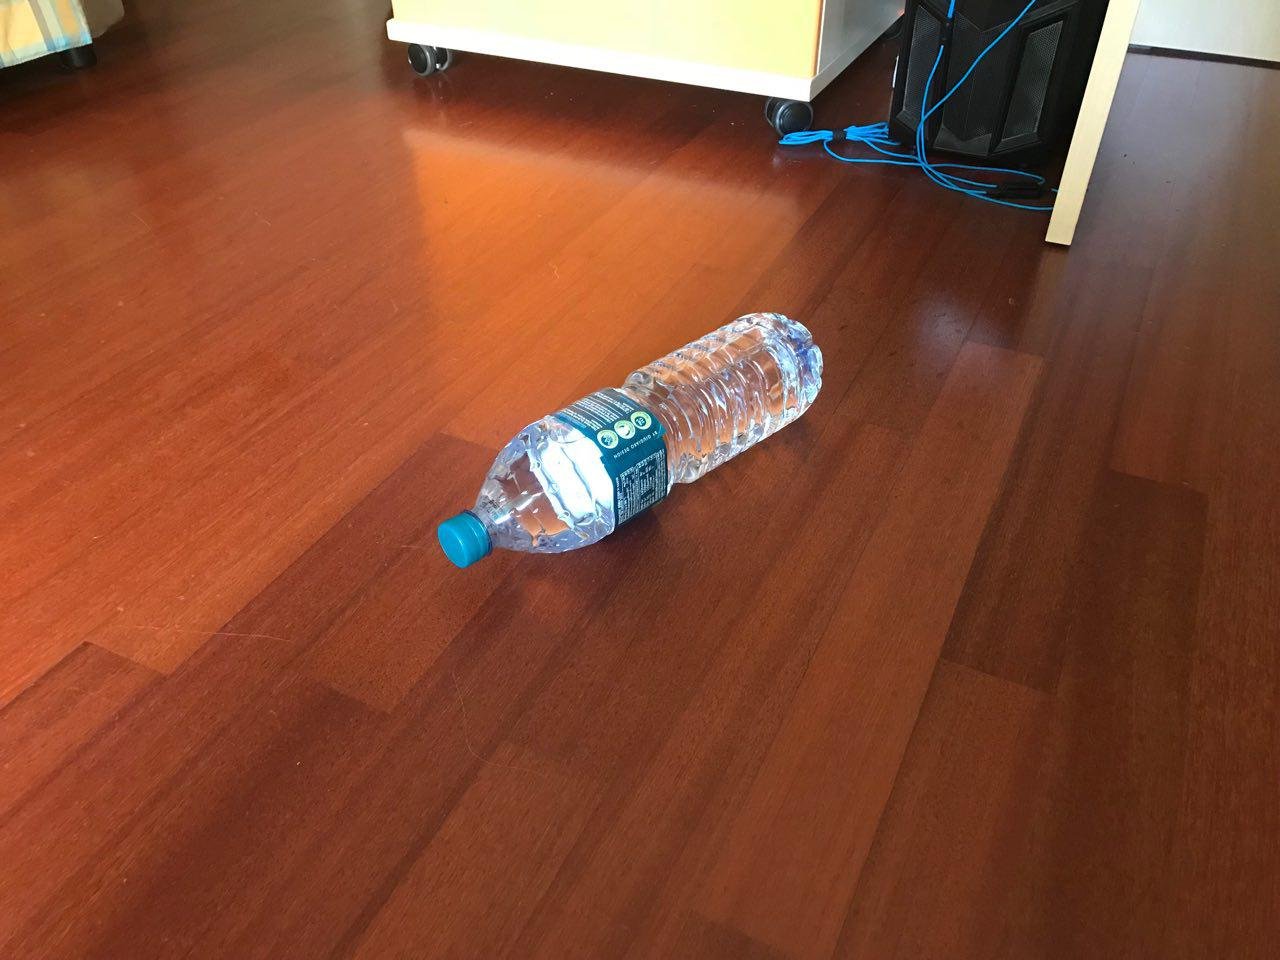san_bernardo: (435, 308, 824, 572)
